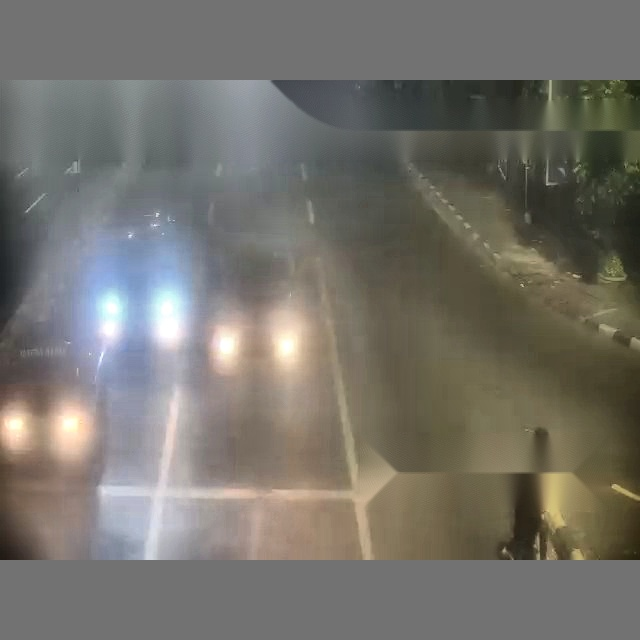Truk: (184, 84, 640, 556)
